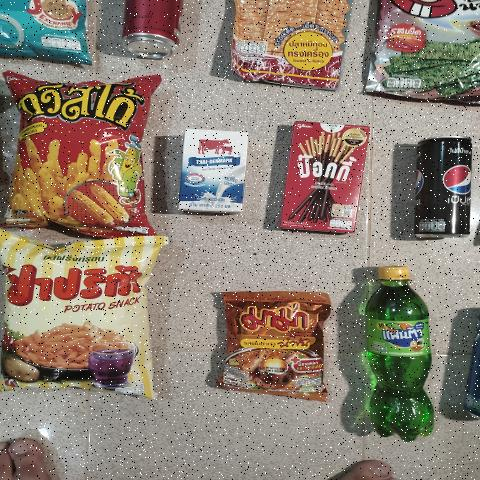fanta_green: (354, 262, 435, 437)
mama: (214, 294, 326, 393)
paprika: (0, 242, 152, 398)
pepsi_black: (418, 137, 473, 241)
pokki: (286, 120, 360, 231)
thai_denmark: (178, 129, 248, 214)
twisco: (15, 78, 138, 231)
